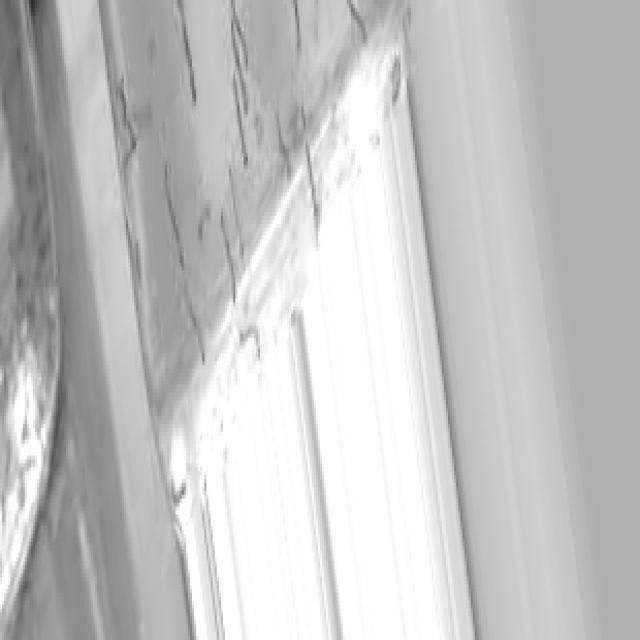larvas: (179, 285, 209, 367), (176, 0, 199, 103), (218, 210, 239, 304), (165, 172, 184, 268), (229, 26, 249, 113), (227, 170, 246, 261), (231, 76, 249, 171), (229, 0, 253, 69), (306, 132, 320, 247), (118, 80, 138, 151), (278, 112, 292, 174), (350, 0, 367, 42), (128, 227, 140, 275), (391, 56, 402, 106), (239, 328, 260, 354), (198, 206, 211, 238), (169, 478, 186, 502), (294, 0, 300, 49)
